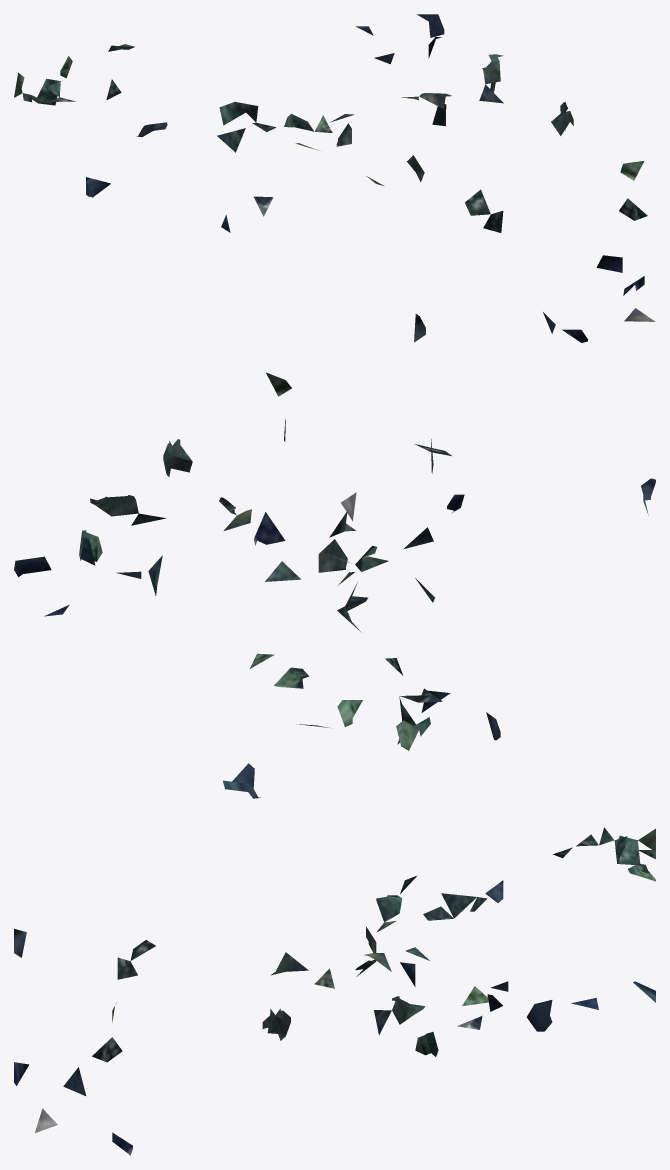
3 views of the same model, one above another, from view 1: azimuth 30°, elevation 25°; view 2: azimuth 150°, elevation 25°; view 3: azimuth 270°, elevation 25° (orthographic). The views are drawn at different scales.
Visible parts, largest first — view 1: 30436272704361415511_1; view 2: 30436272704361415511_1; view 3: 30436272704361415511_1.
Part boxes in pixels (x1,y1,x2,y2): 30436272704361415511_1: [14, 14, 655, 342]; 30436272704361415511_1: [14, 372, 655, 798]; 30436272704361415511_1: [14, 827, 655, 1155].
Bounding box in the file's own units: 27.47 × 9.71 × 38.26.
1 material, 1 textured.
